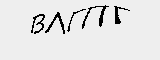В: (30, 12, 46, 37)
Г: (67, 6, 86, 33), (112, 5, 129, 27)
Л: (49, 12, 67, 36)
П: (81, 4, 110, 31)
